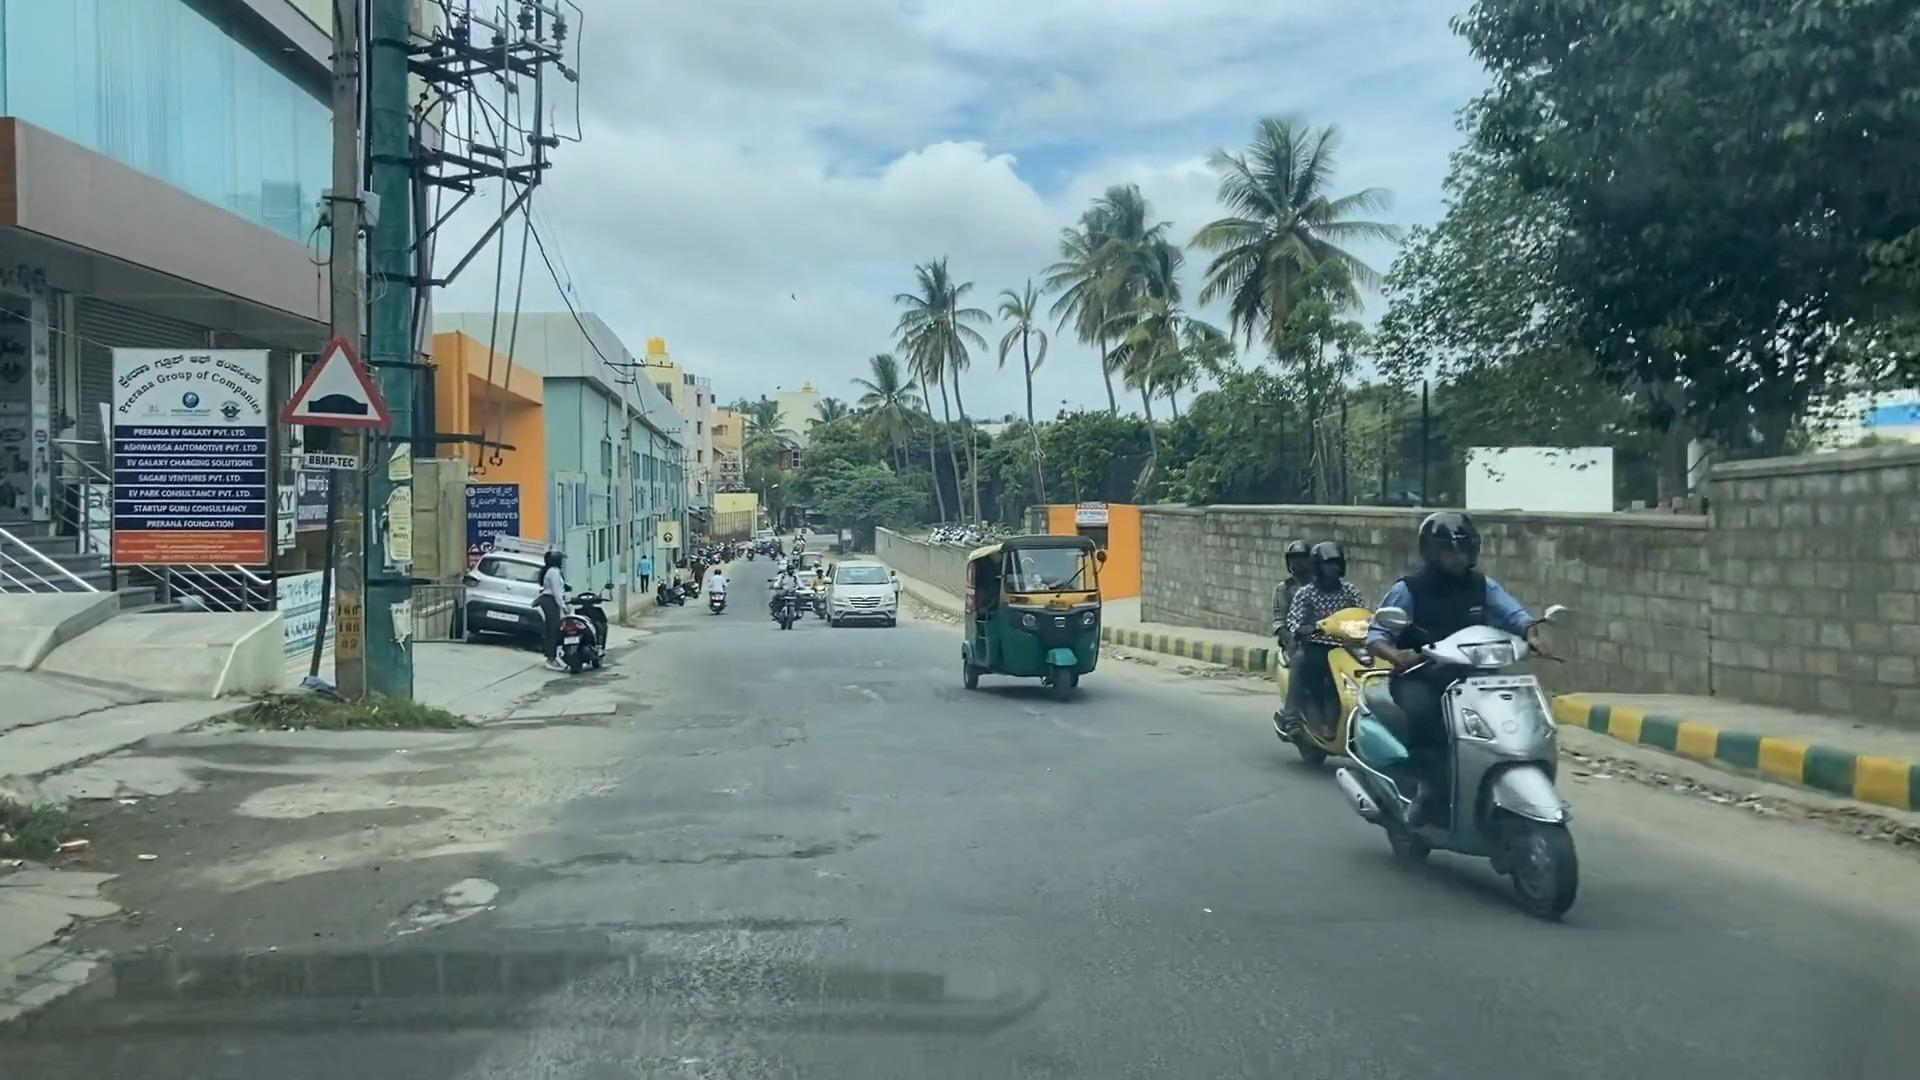RoadDamages: (365, 836, 587, 964), (798, 642, 905, 758)
